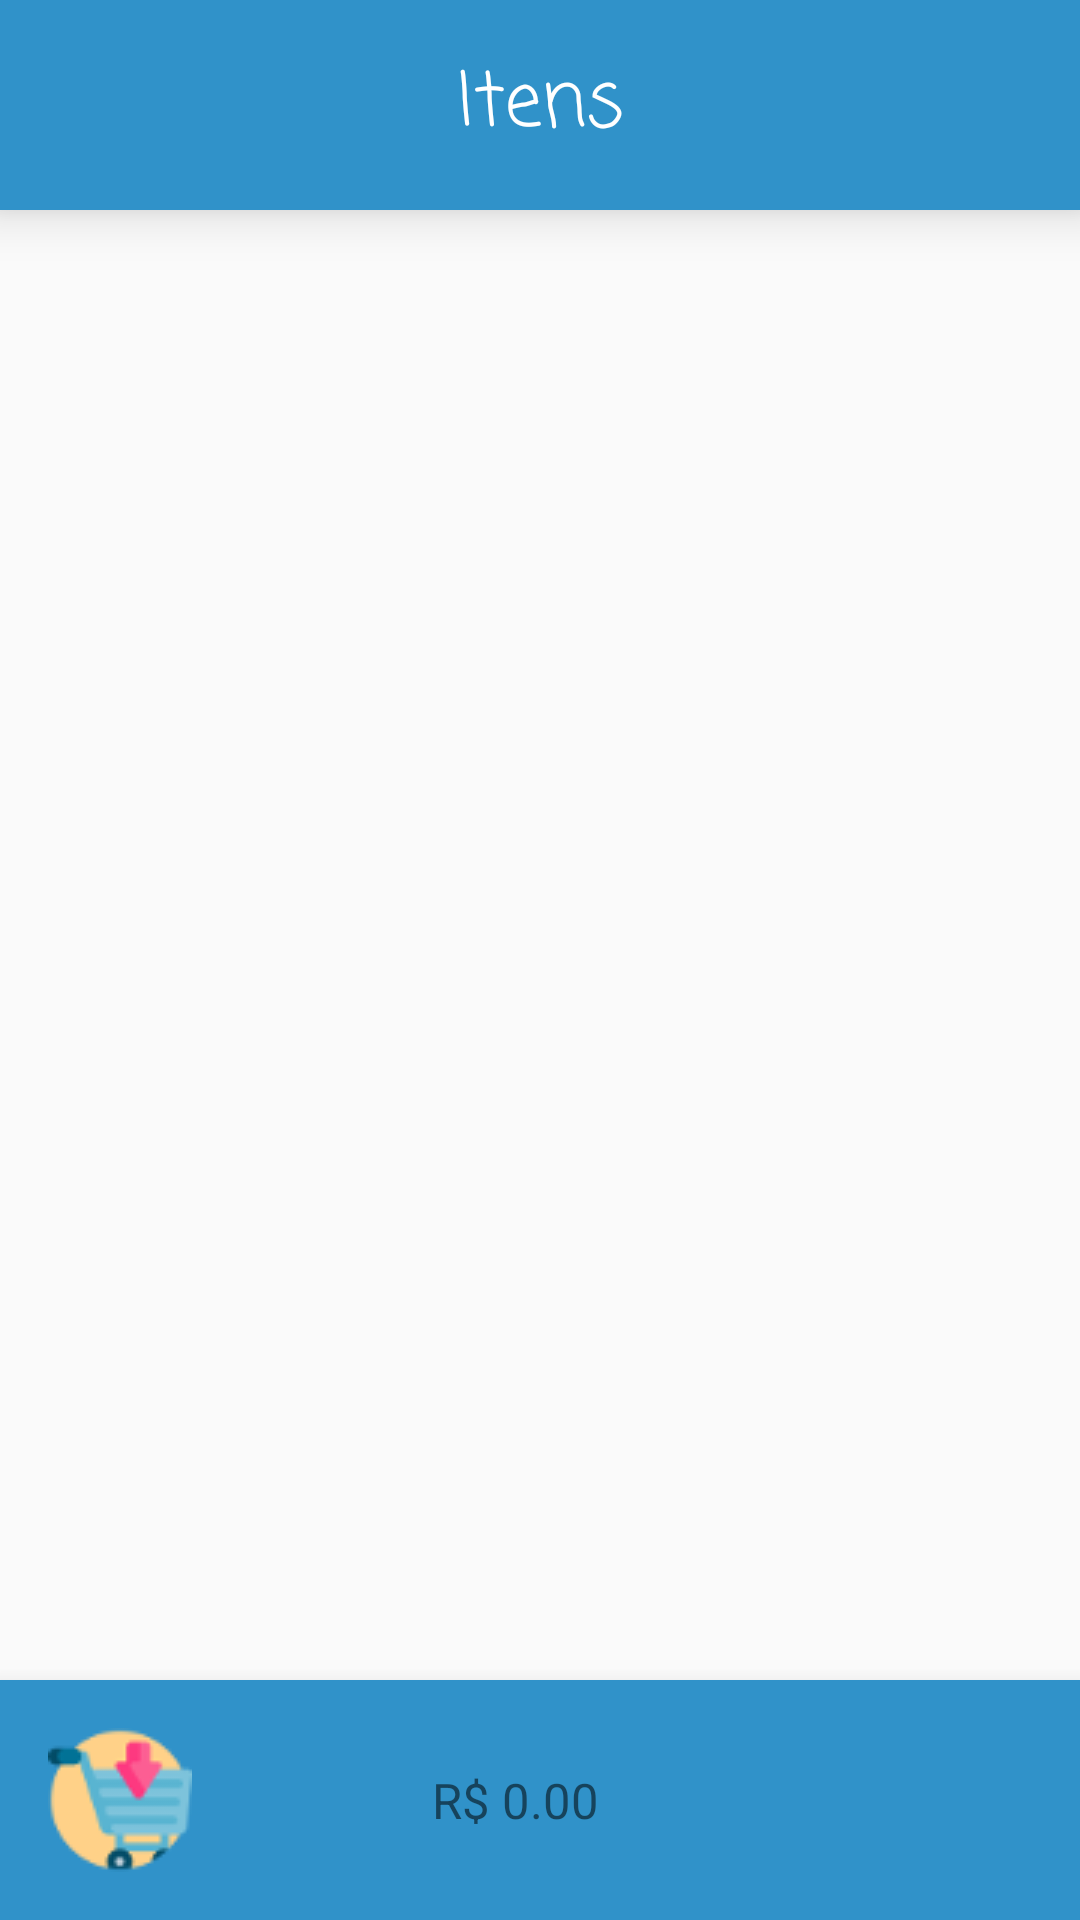

Screen size 1080 × 1920. Icon name, then its box in pixels as (x1, y1, x2, y2):
add cart: (48, 1730, 192, 1870)
